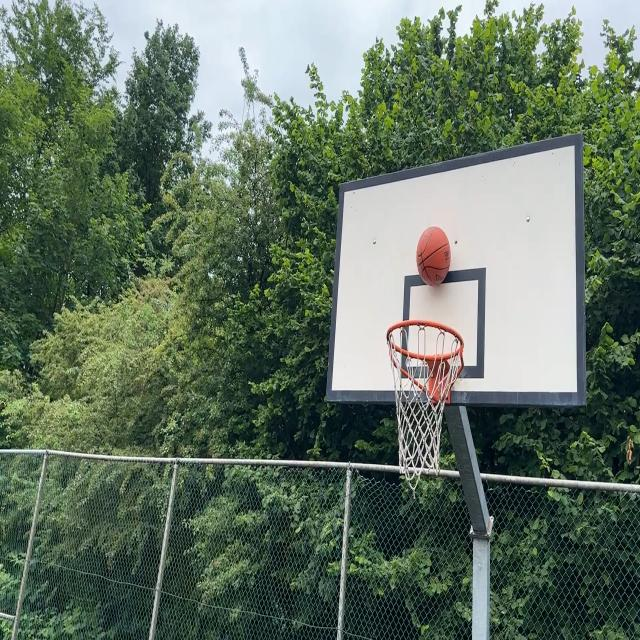rebound_hit: (416, 226, 452, 290)
